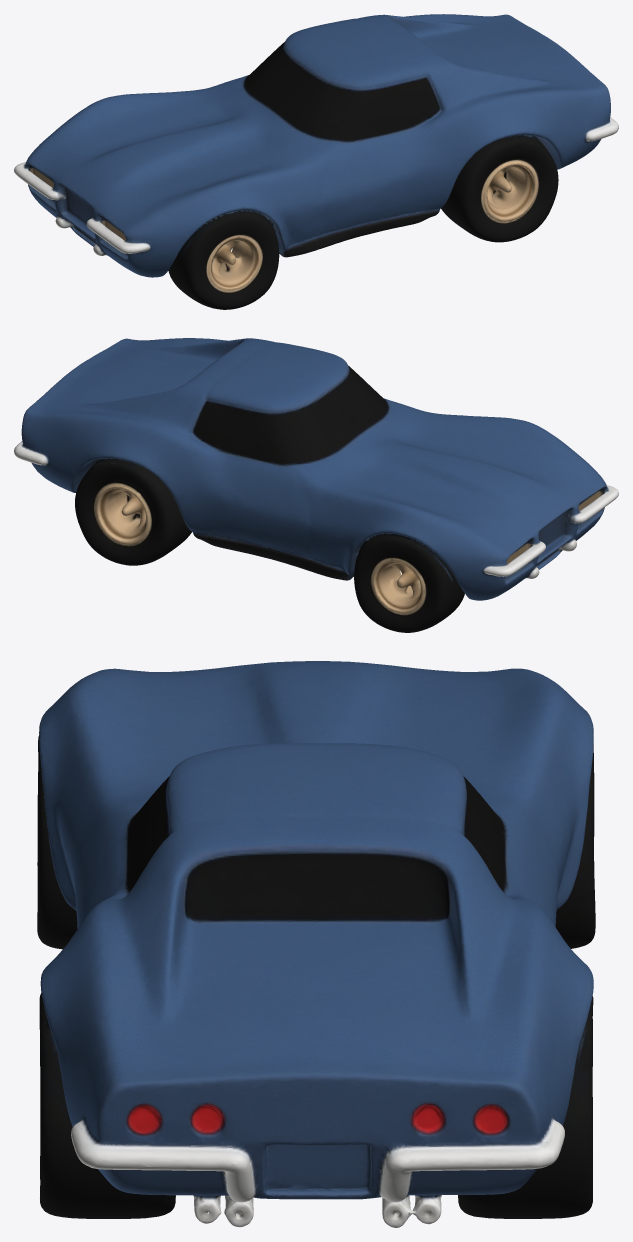
Rendered from cars_goat_vessel_80.glb.
The picture shows the model from 3 angles, top to bottom: view 1: azimuth 30°, elevation 25°; view 2: azimuth 150°, elevation 25°; view 3: azimuth 270°, elevation 25°; orthographic projection. The views are drawn at different scales.
Size of the model in its own units: 1.9 by 0.6158 by 0.918.
Materials: 1 (1 with a texture image).
